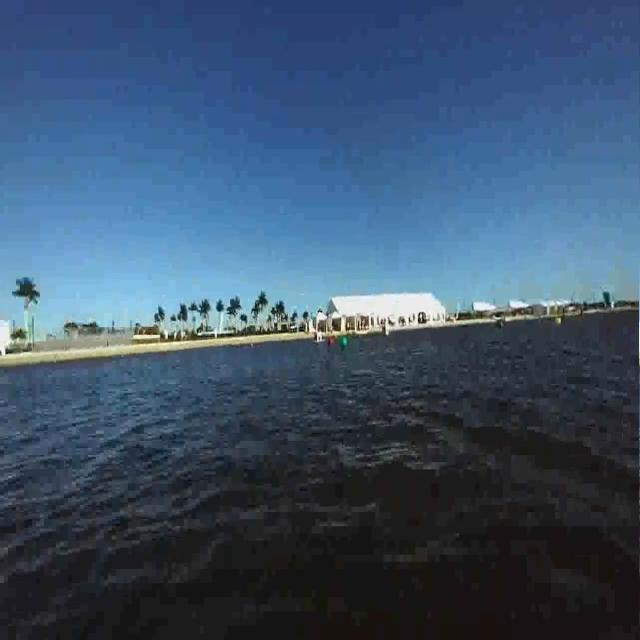green-buoy: (341, 338, 349, 350)
red-buoy: (327, 336, 333, 350)
yellow-buoy: (555, 312, 563, 328)
